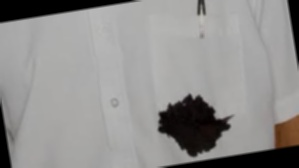ink: (157, 91, 236, 161)
